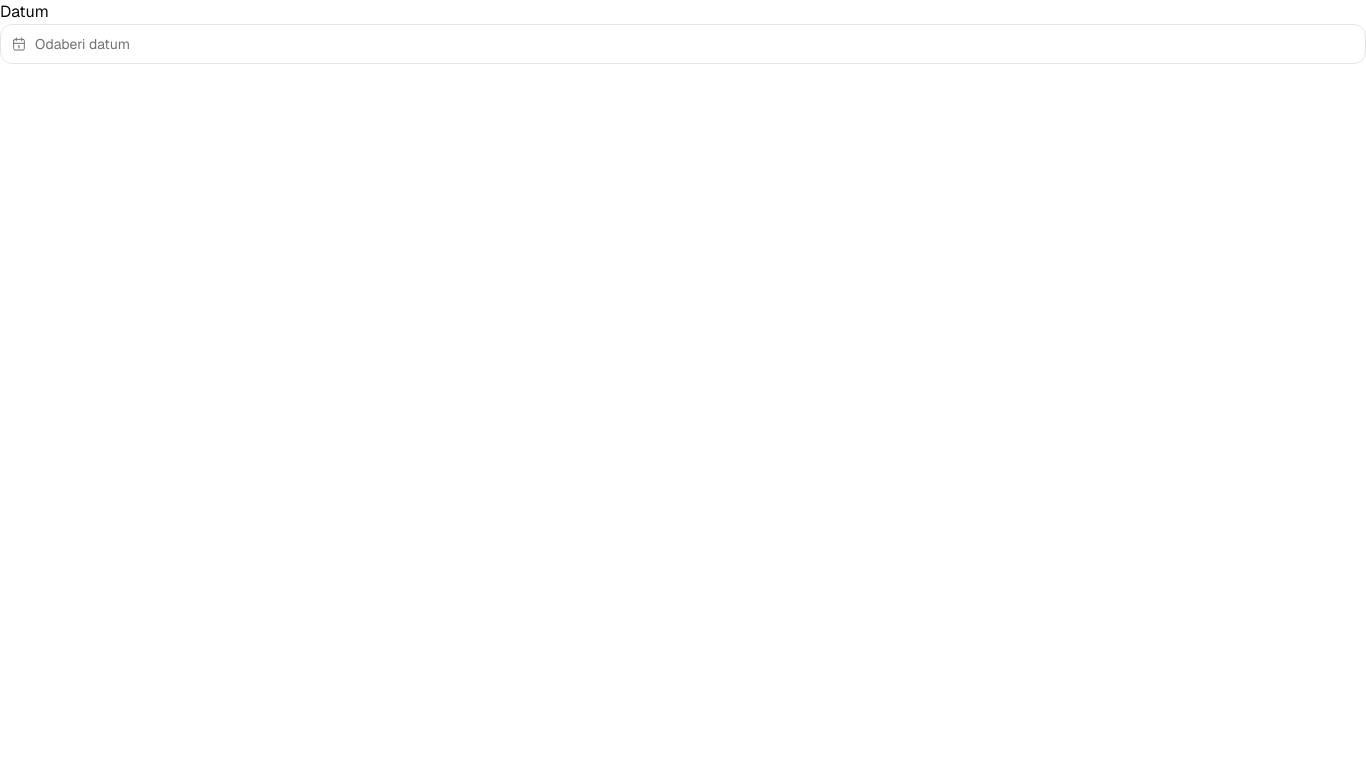
DatePicker › marked day › no legend without a marked day
Click the button labelled "Odaberi datum" at [82, 44], box [0,24,1365,64]
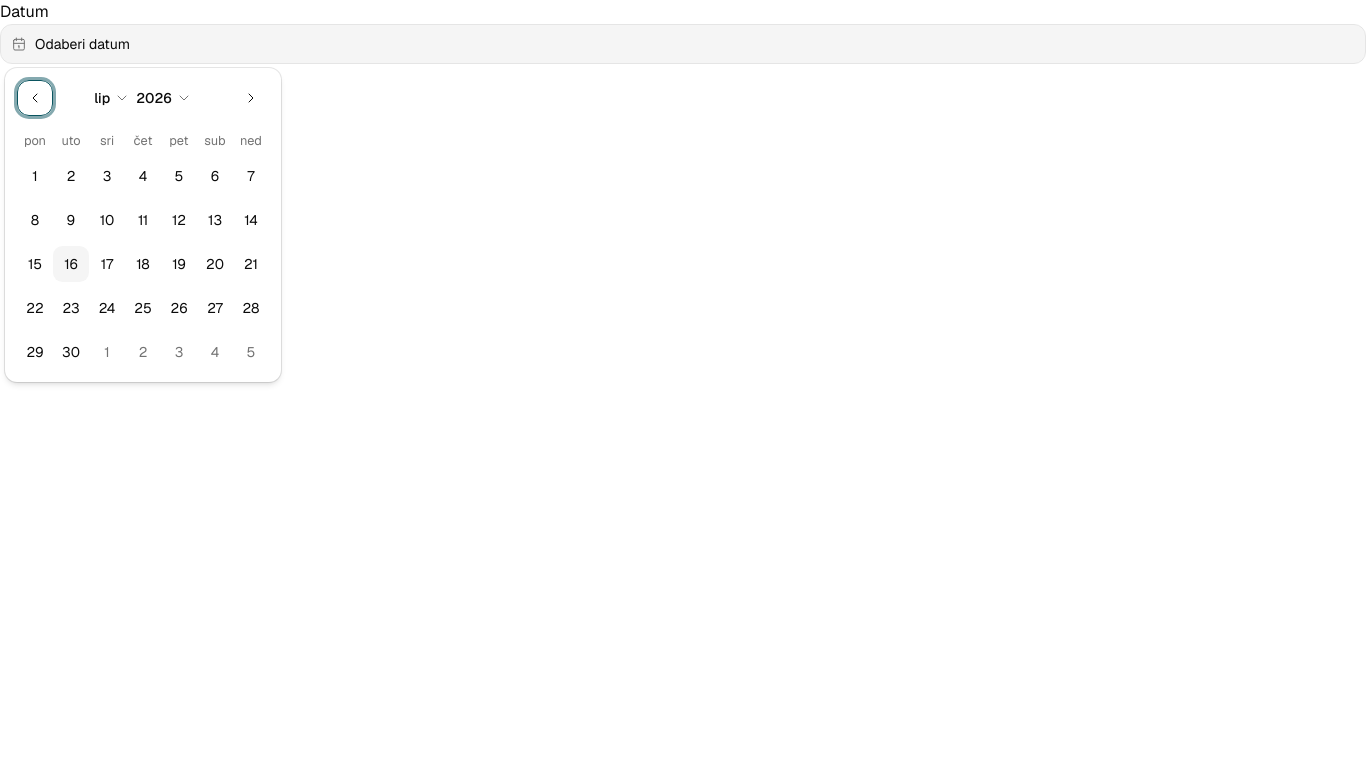
Expected: the dialog is shown, [5,68,281,382]
